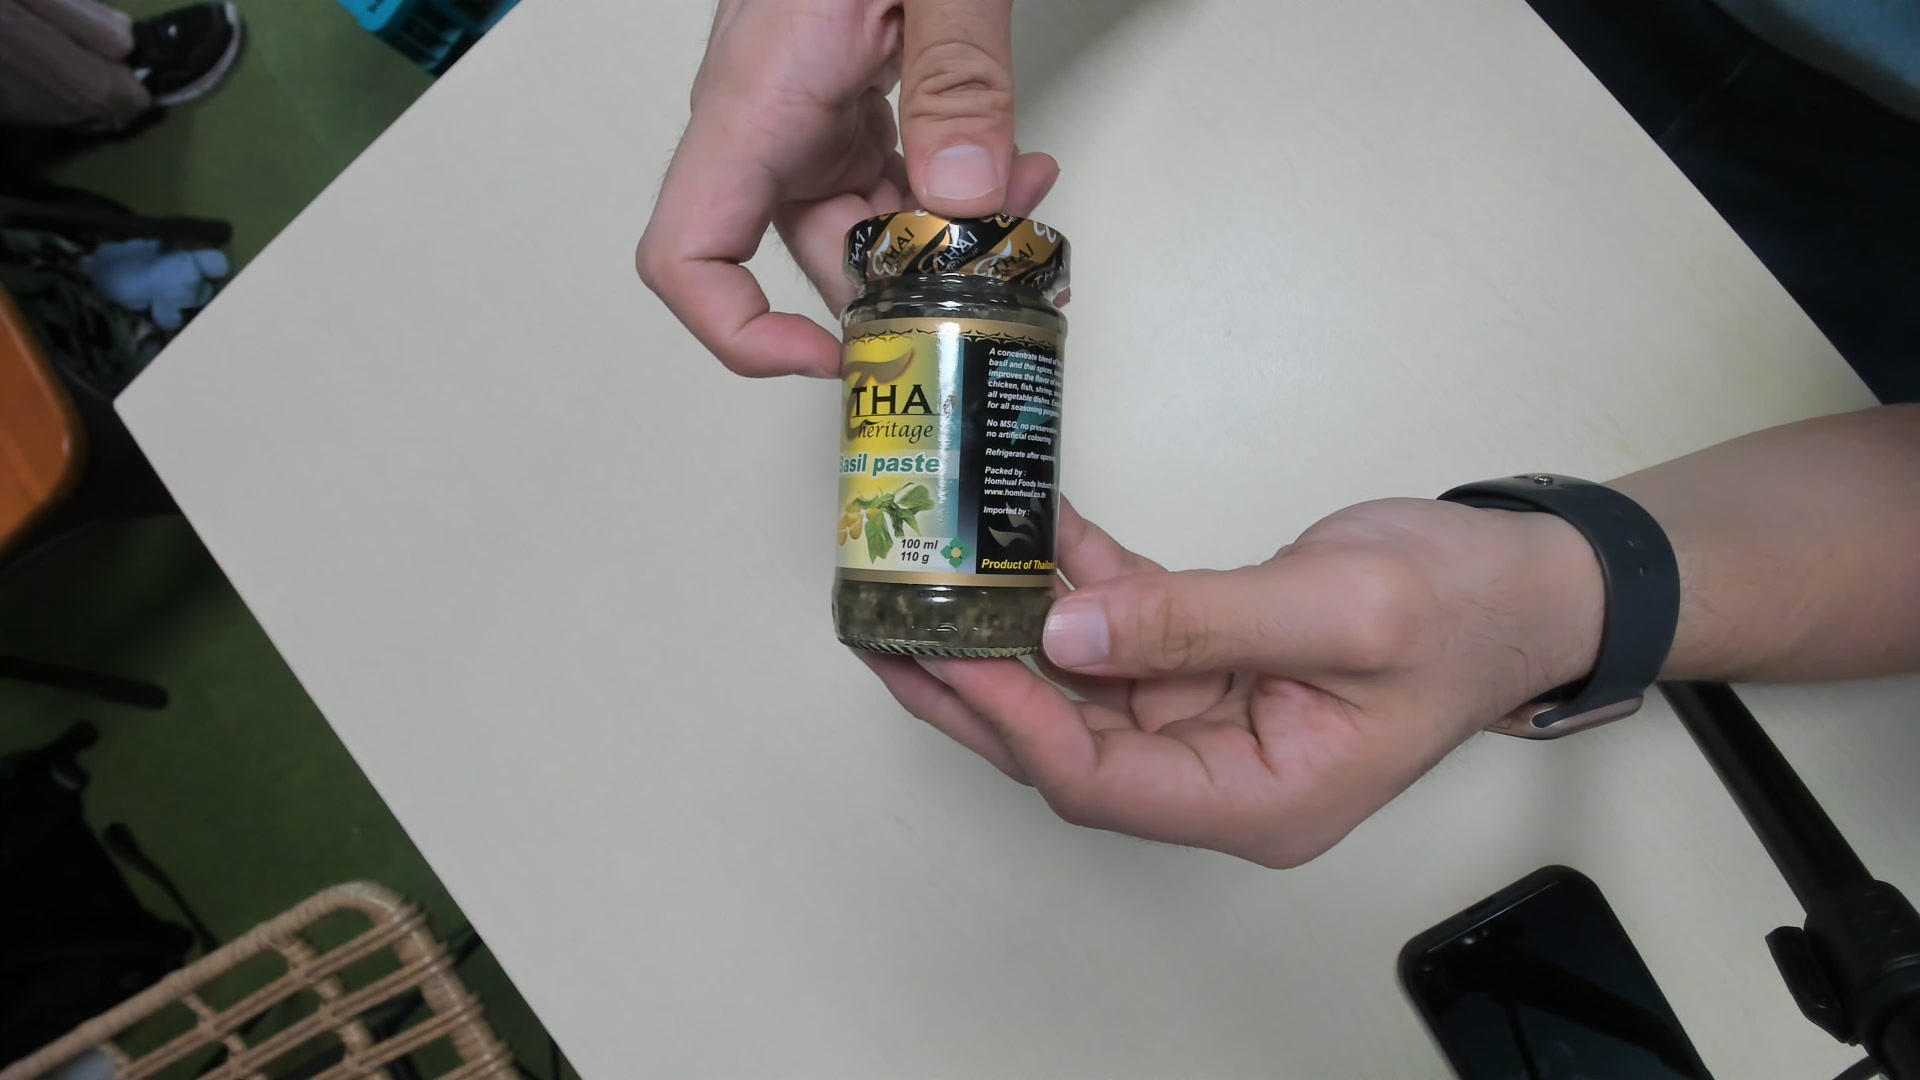OtherSauceDressing_0-99g_Halal_NonHealthy: (835, 212, 1062, 662)
